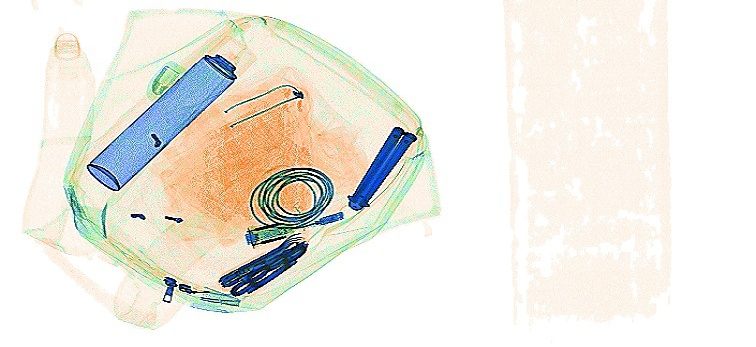knife: (344, 121, 416, 212), (217, 233, 311, 288)
pressure: (87, 33, 255, 192)
